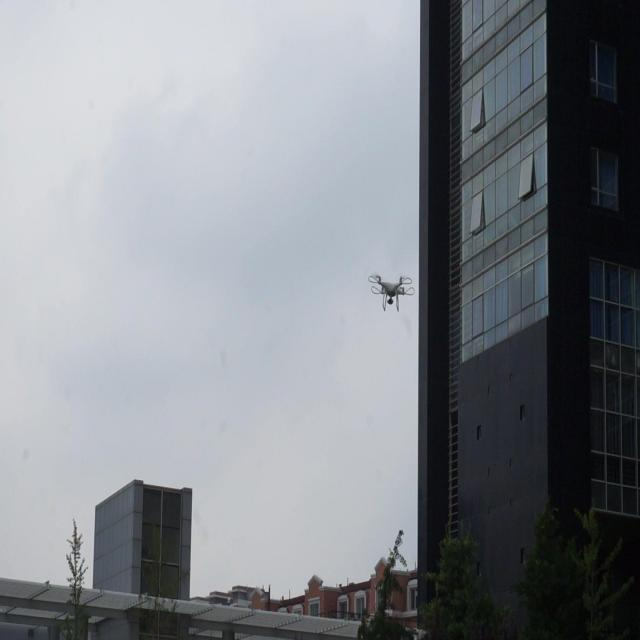UAV: (368, 274, 415, 312)
